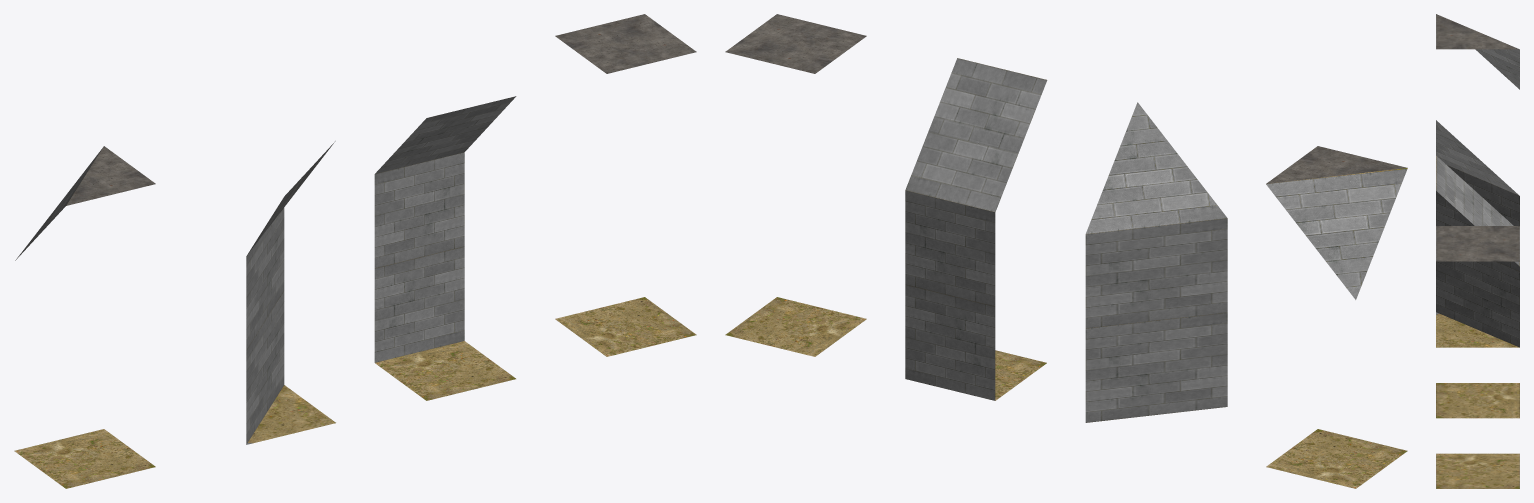
The model's file is Firtstest.glb.
The picture shows the model from 3 angles, left to right: view 1: azimuth 30°, elevation 25°; view 2: azimuth 150°, elevation 25°; view 3: azimuth 270°, elevation 25°; orthographic projection. The views are drawn at different scales.
Parts seen in each view (by area): view 1: Wall-col, Corner-col, Inside-col, InsideCorner-col; view 2: Corner-col, Wall-col, InsideCorner-col, Inside-col; view 3: Corner-col, Inside-col, Wall-col, InsideCorner-col.
Boxes of the visible parts, x1,y1,x2,y2 form: Wall-col: (374, 96, 516, 400); Corner-col: (246, 141, 335, 444); Inside-col: (555, 14, 696, 356); InsideCorner-col: (14, 146, 155, 488); Corner-col: (1085, 102, 1227, 422); Wall-col: (905, 58, 1047, 400); InsideCorner-col: (1266, 146, 1407, 488); Inside-col: (725, 14, 866, 356); Corner-col: (1436, 120, 1519, 347); Inside-col: (1436, 226, 1519, 488); Wall-col: (1436, 155, 1519, 418); InsideCorner-col: (1436, 14, 1519, 89).
Size of the model in its own units: 7 by 3 by 1.
Materials: 1 (1 with a texture image).
